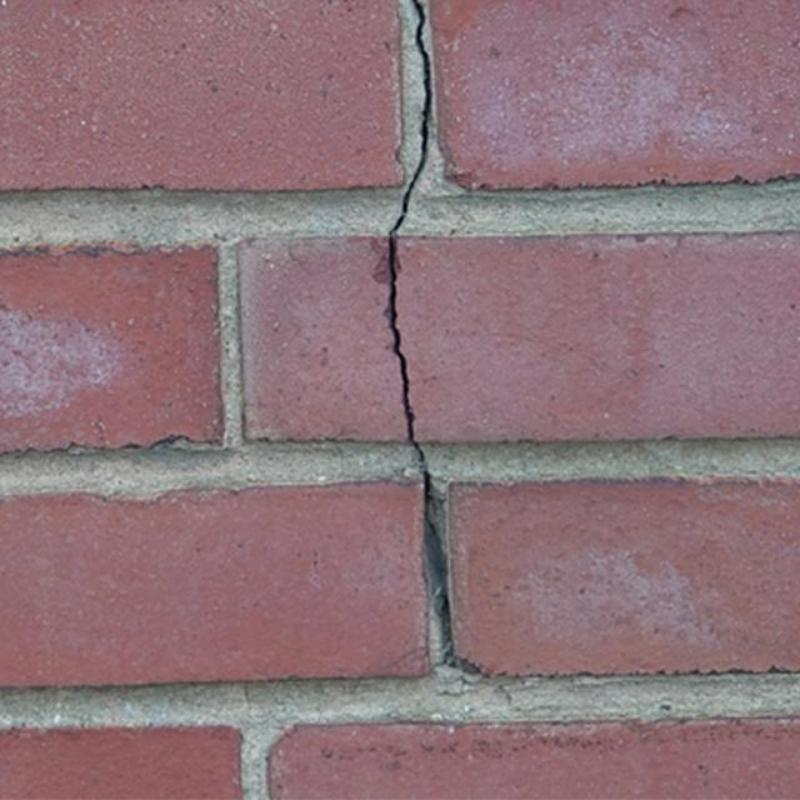crack: (383, 0, 433, 459), (422, 471, 479, 674)
